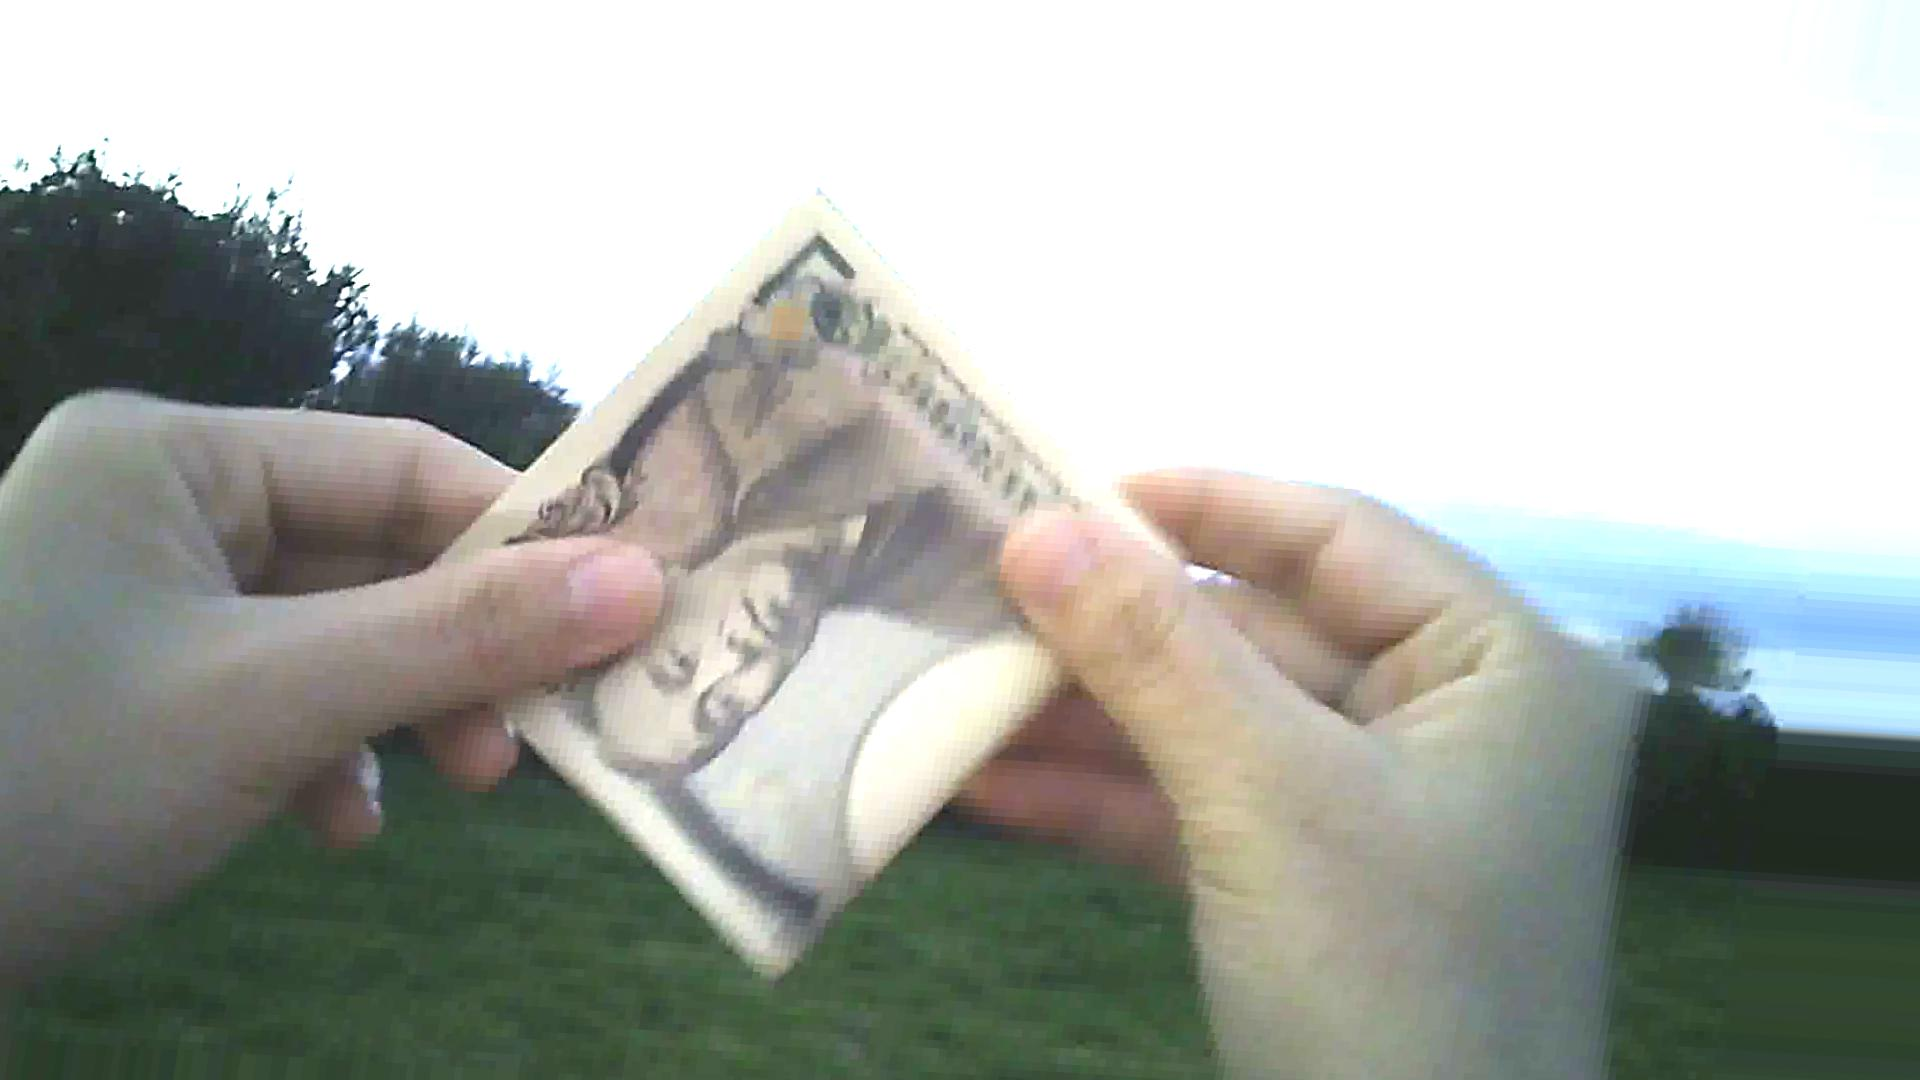10,000 Yen: (363, 228, 1156, 964)
